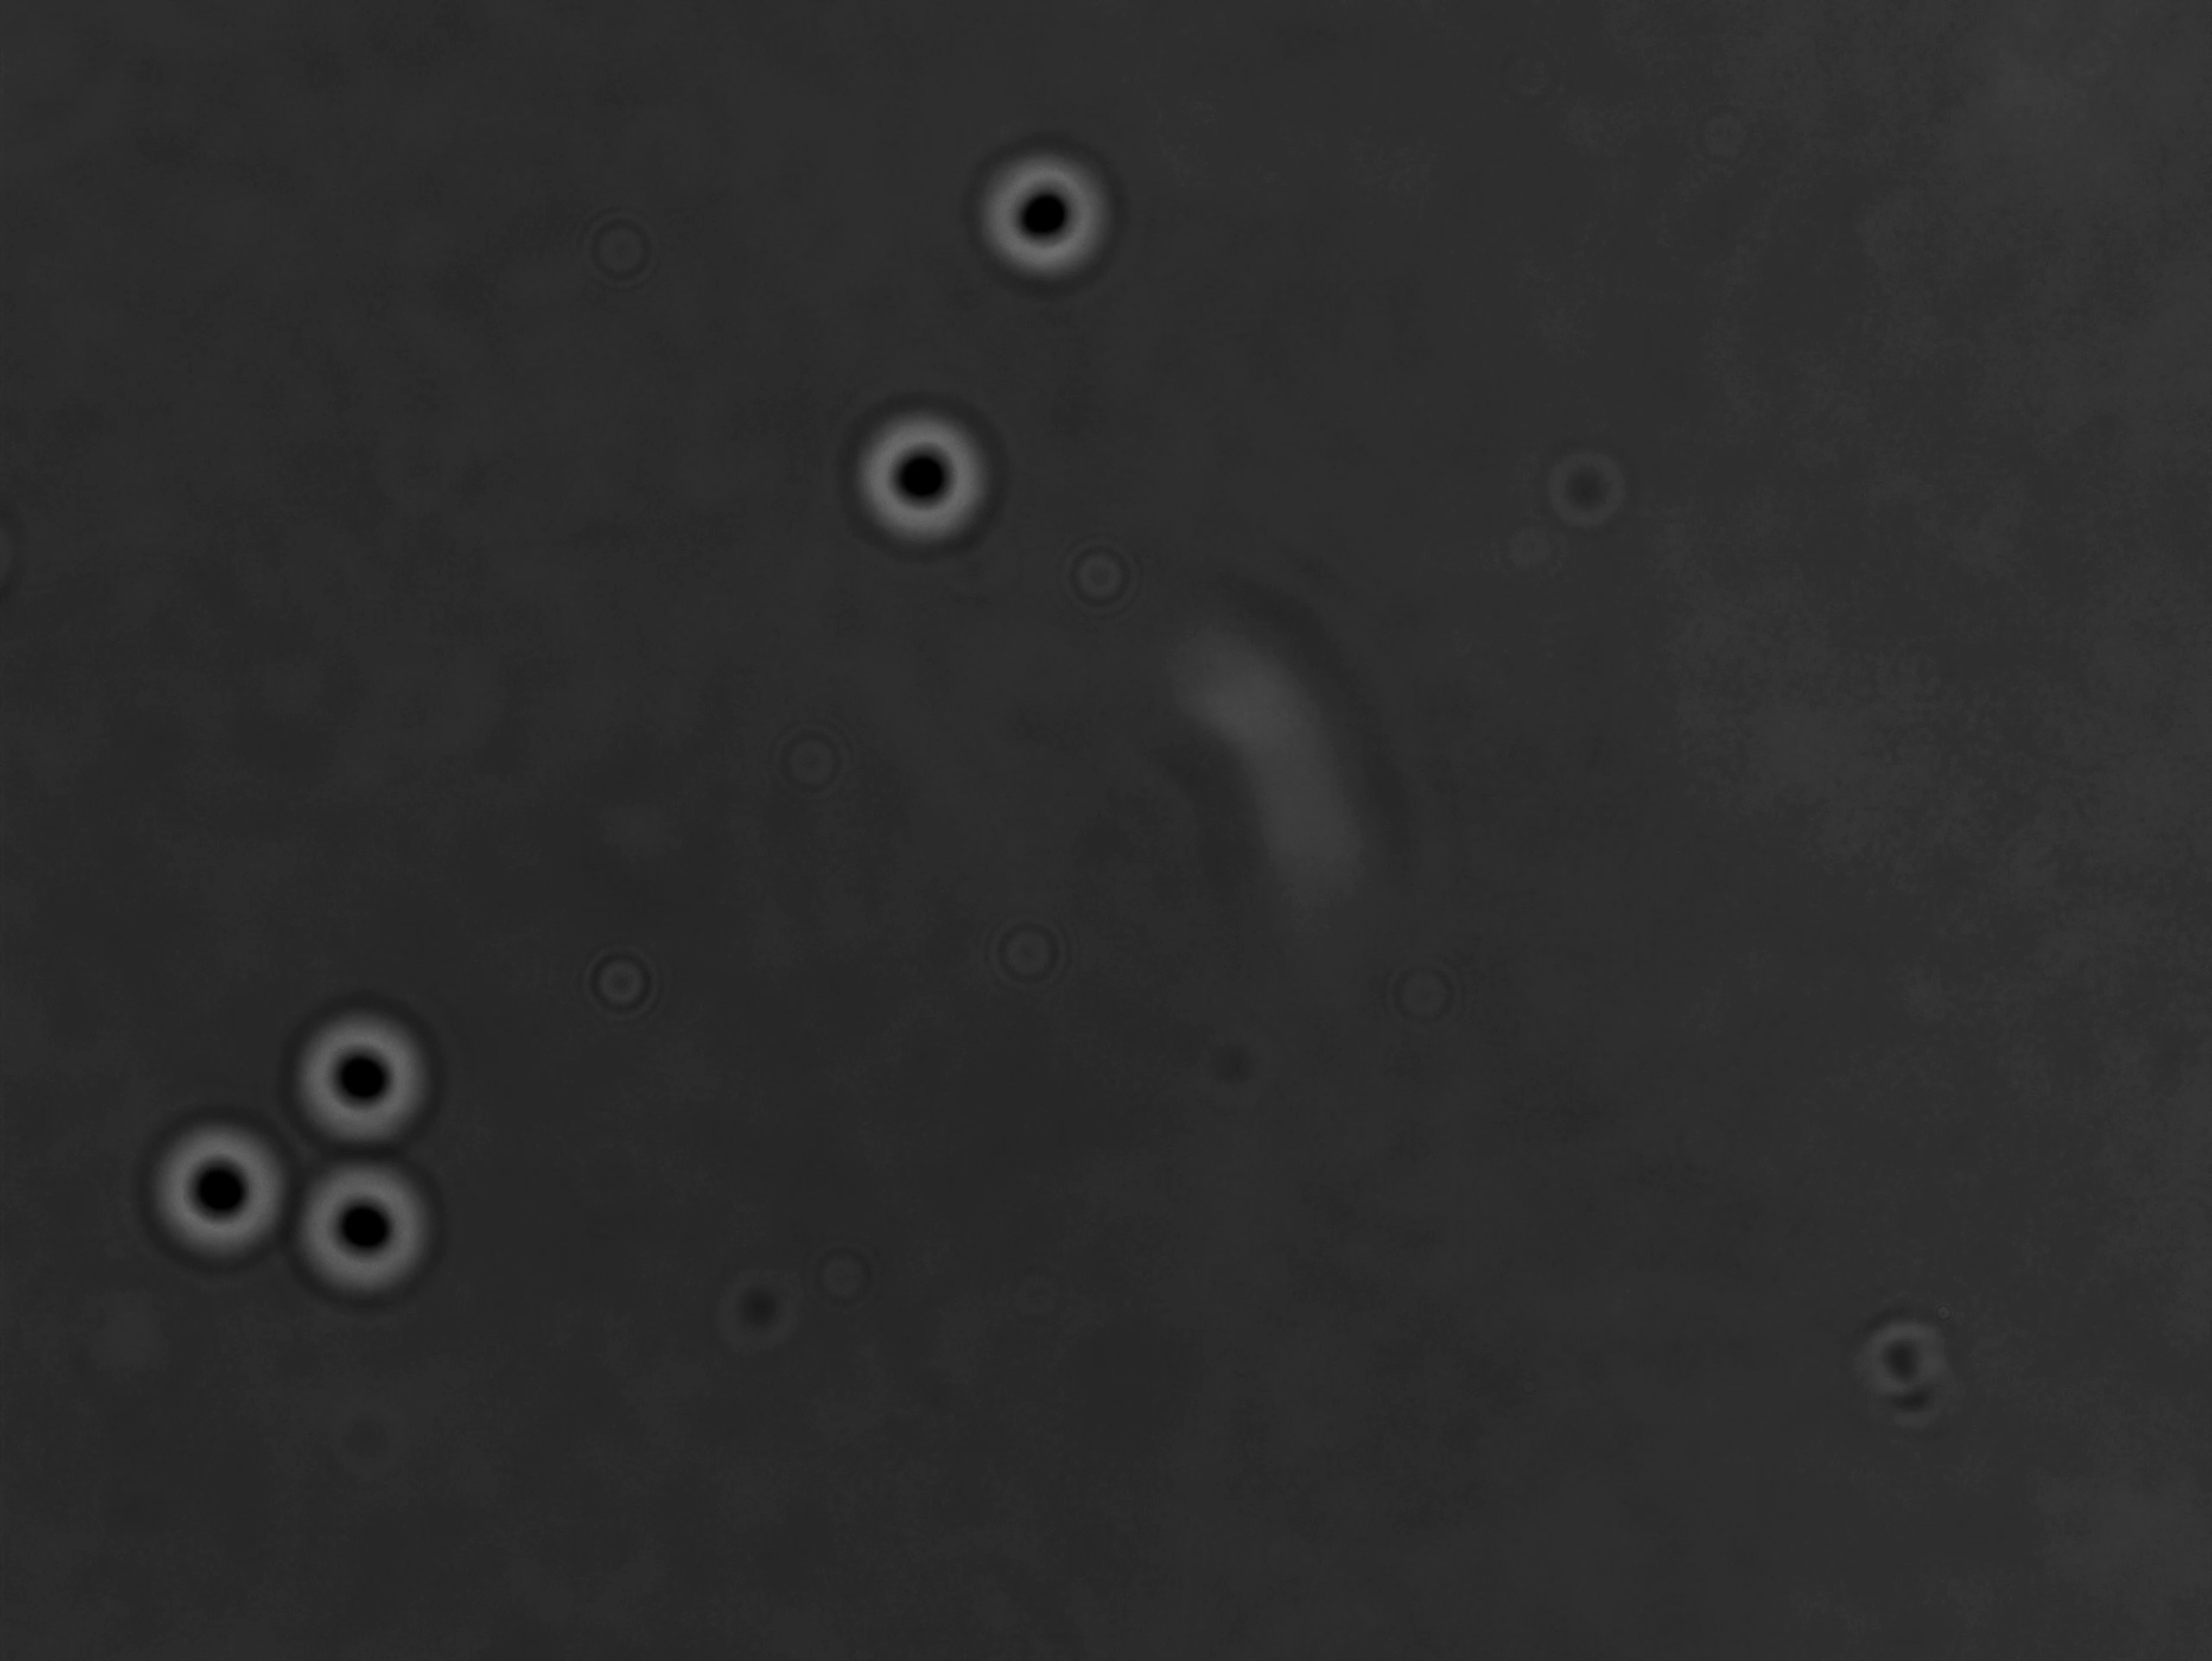depth:-40: (277, 998, 459, 1160), (277, 1148, 454, 1312), (846, 394, 1010, 562), (963, 141, 1123, 309), (147, 1106, 309, 1265)
